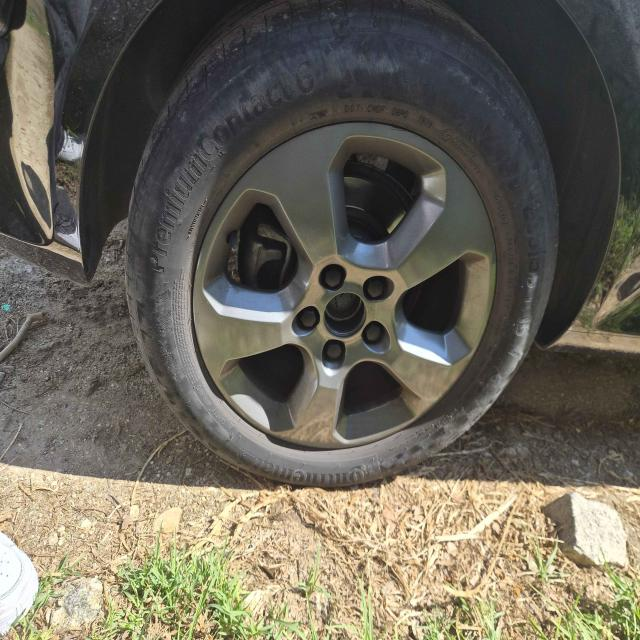jante: (188, 122, 498, 453)
parafuso: (363, 274, 388, 302), (318, 264, 344, 289), (362, 321, 384, 348), (327, 340, 342, 363), (301, 307, 316, 329)
roda: (125, 0, 561, 490)
